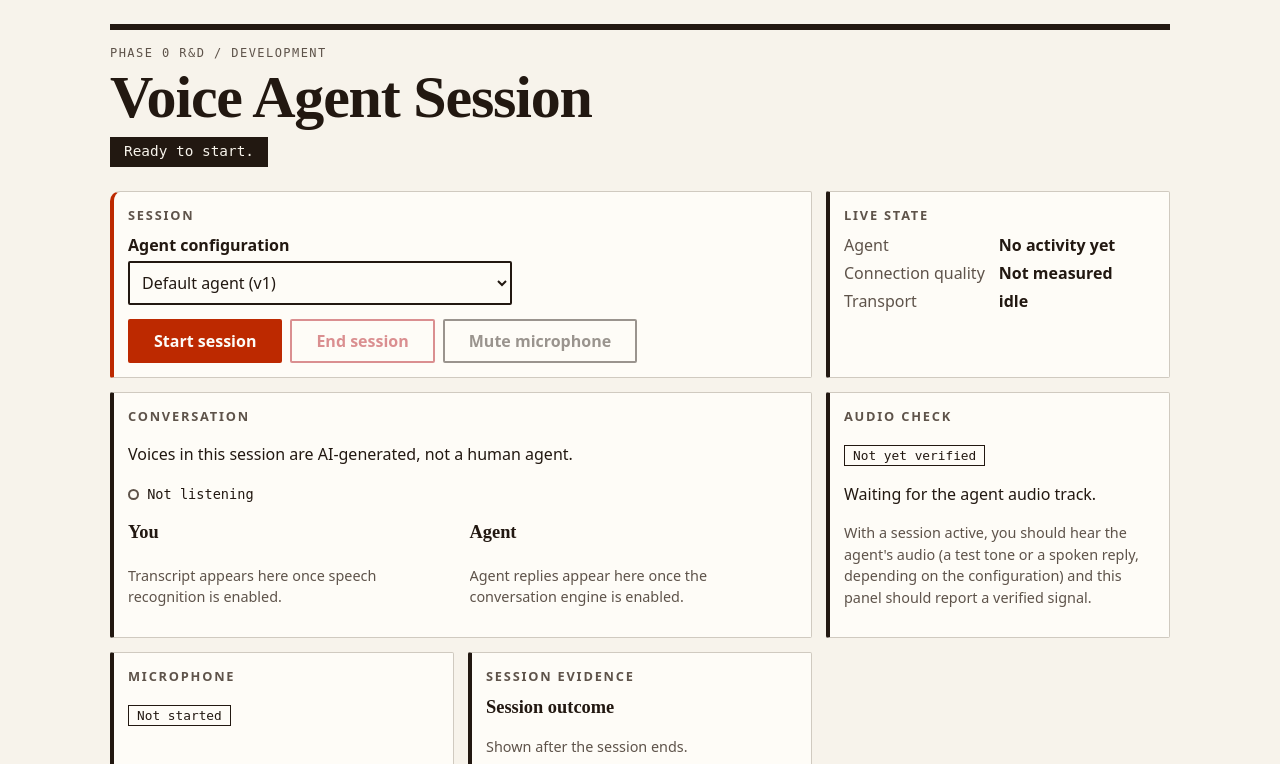
Test: SessionScreen accessibility and states › toggles mute with aria-pressed
This screenshot has width=1280, height=764.
Click the button "Start session" at point(205, 341), box 128,319 -> 282,363
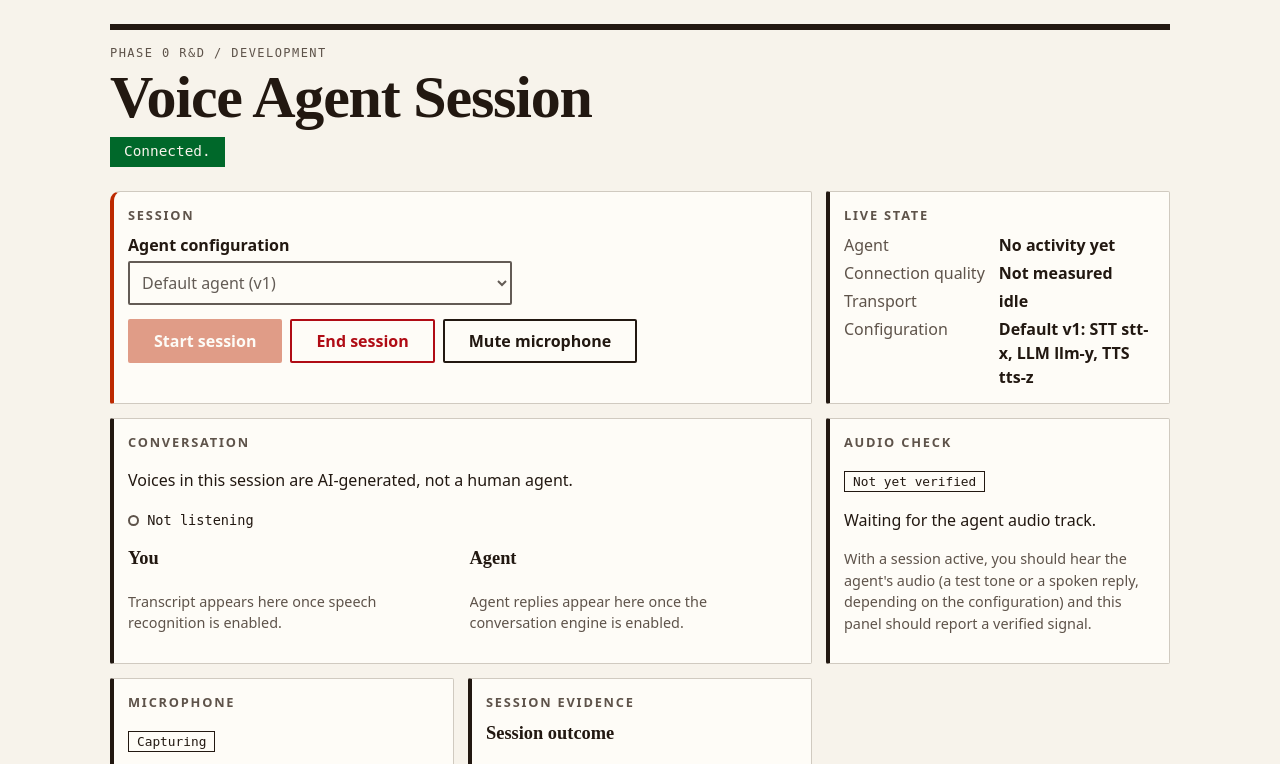
Expected: the message "Connected." is shown, 110,137 -> 225,167
Click the button "Mute microphone" at point(540, 341), box 443,319 -> 637,363
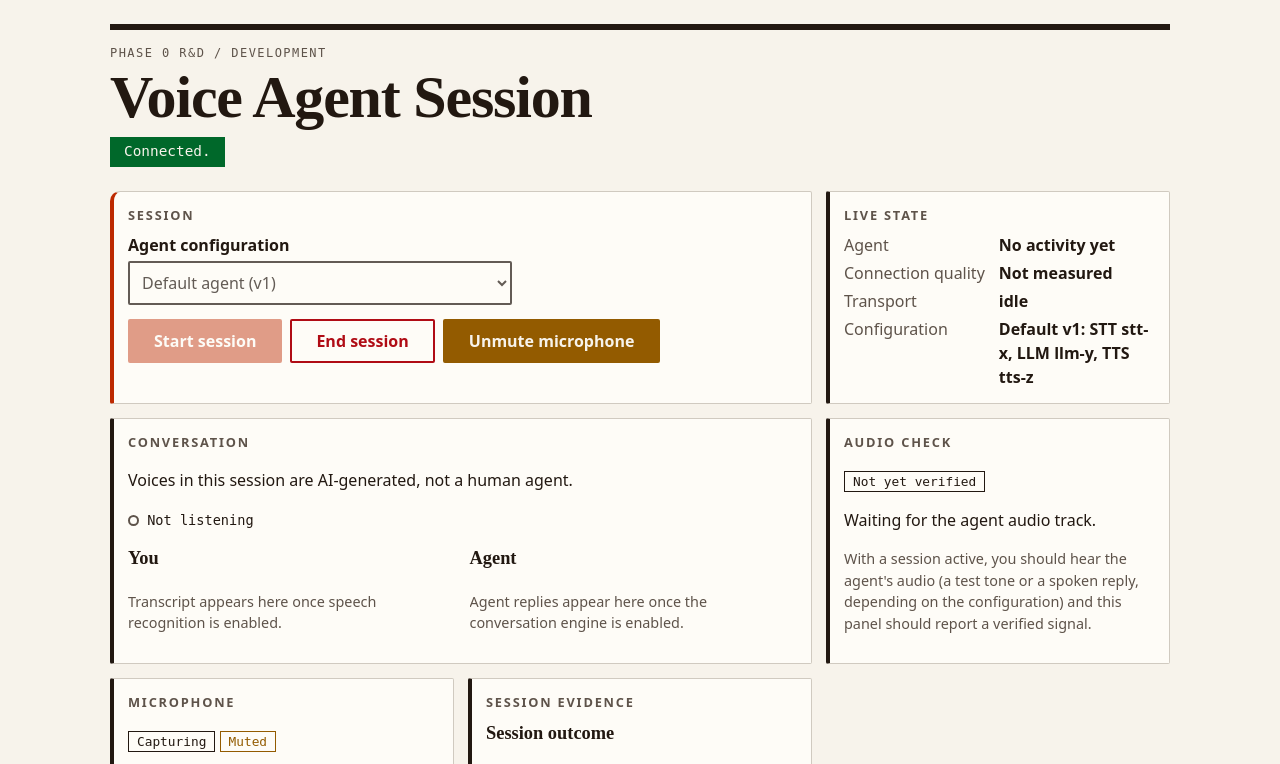
Expected: the text "Muted" is shown, 220,731 -> 276,752
